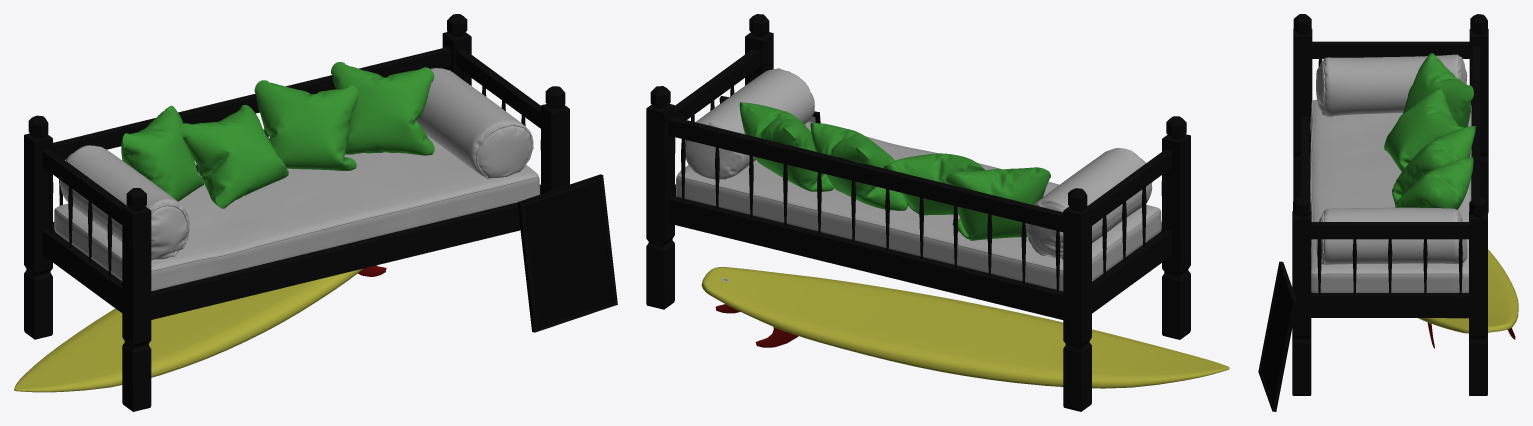
File: tropical_set.FBX
3 views of the same model, side by side, from view 1: azimuth 30°, elevation 25°; view 2: azimuth 150°, elevation 25°; view 3: azimuth 270°, elevation 25° (orthographic). The views are drawn at different scales.
Parts seen in each view (by area): view 1: Object033, Cylinder347, Line002, Group003, pillow_tropical_03, pillow_tropical_00, pillow_tropical_02, pillow_tropical_01, Box190; view 2: Cylinder347, Line002, Object033, pillow_tropical_01, pillow_tropical_03, pillow_tropical_00, pillow_tropical_02; view 3: Cylinder347, Object033, pillow_tropical_02, pillow_tropical_00, pillow_tropical_01, pillow_tropical_03, Line002, Group003, Box190.
Boxes of the visible parts, x1=… form: Object033: x1=54, y1=68, x2=540, y2=291; Cylinder347: x1=24, y1=14, x2=569, y2=411; Line002: x1=14, y1=268, x2=362, y2=392; Group003: x1=524, y1=181, x2=612, y2=326; pillow_tropical_03: x1=254, y1=80, x2=359, y2=170; pillow_tropical_00: x1=331, y1=62, x2=434, y2=155; pillow_tropical_02: x1=180, y1=105, x2=288, y2=208; pillow_tropical_01: x1=121, y1=105, x2=203, y2=201; Box190: x1=517, y1=174, x2=617, y2=332; Cylinder347: x1=646, y1=14, x2=1190, y2=411; Line002: x1=701, y1=267, x2=1229, y2=388; Object033: x1=676, y1=68, x2=1161, y2=291; pillow_tropical_01: x1=946, y1=167, x2=1050, y2=240; pillow_tropical_03: x1=810, y1=123, x2=907, y2=210; pillow_tropical_00: x1=739, y1=102, x2=833, y2=191; pillow_tropical_02: x1=883, y1=153, x2=984, y2=215; Cylinder347: x1=1292, y1=14, x2=1488, y2=395; Object033: x1=1310, y1=54, x2=1471, y2=292; pillow_tropical_02: x1=1384, y1=88, x2=1463, y2=171; pillow_tropical_00: x1=1395, y1=157, x2=1473, y2=209; pillow_tropical_01: x1=1403, y1=53, x2=1473, y2=127; pillow_tropical_03: x1=1392, y1=125, x2=1475, y2=205; Line002: x1=1418, y1=249, x2=1518, y2=333; Group003: x1=1260, y1=269, x2=1291, y2=403; Box190: x1=1258, y1=261, x2=1297, y2=411.
Size of the model in its own units: 210 by 78.52 by 95.86.
